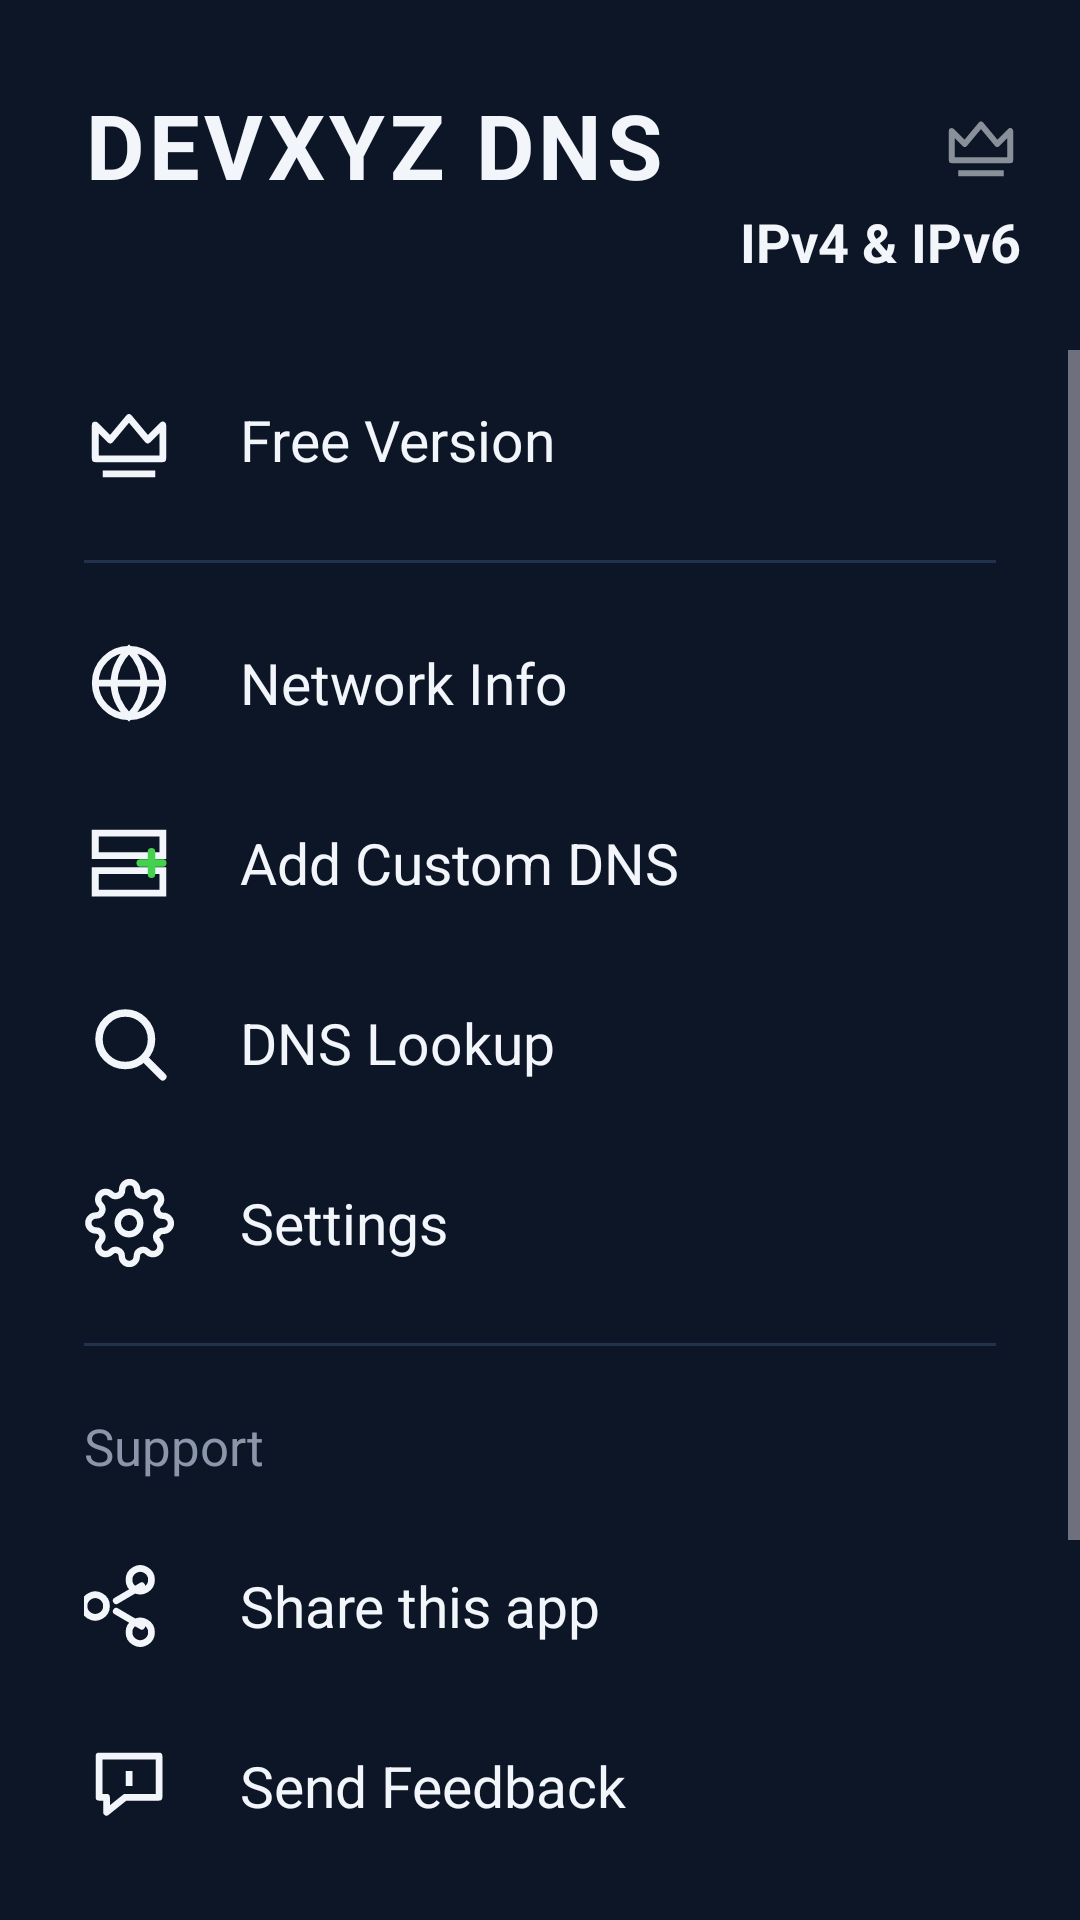

Locate icon controls on the screen. Image size 1080px x 1920px, boxes as box(x1, y1, x2, y2).
crown: box(948, 121, 1014, 177), box(91, 414, 167, 478)
gear: box(85, 1179, 174, 1267)
globe: box(92, 644, 166, 722)
search: box(95, 1009, 167, 1081)
server add: box(91, 829, 167, 897)
